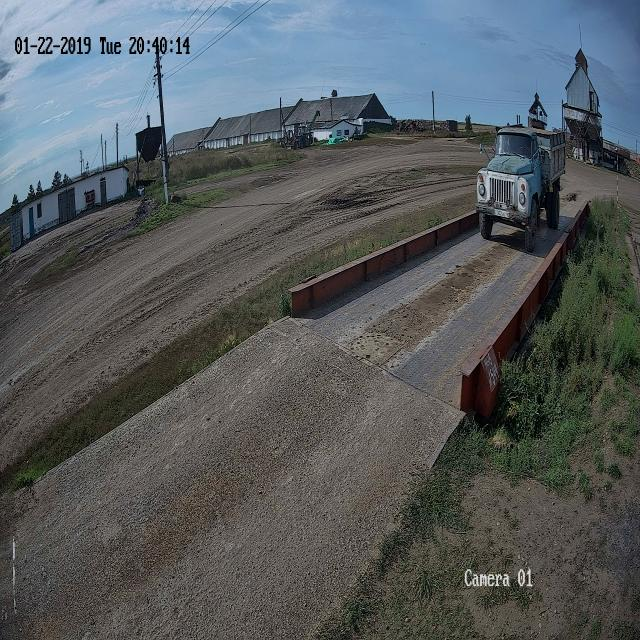license plate: (494, 207, 509, 219)
truck: (476, 126, 565, 251)
